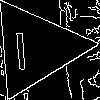I: (11, 23, 30, 70)
